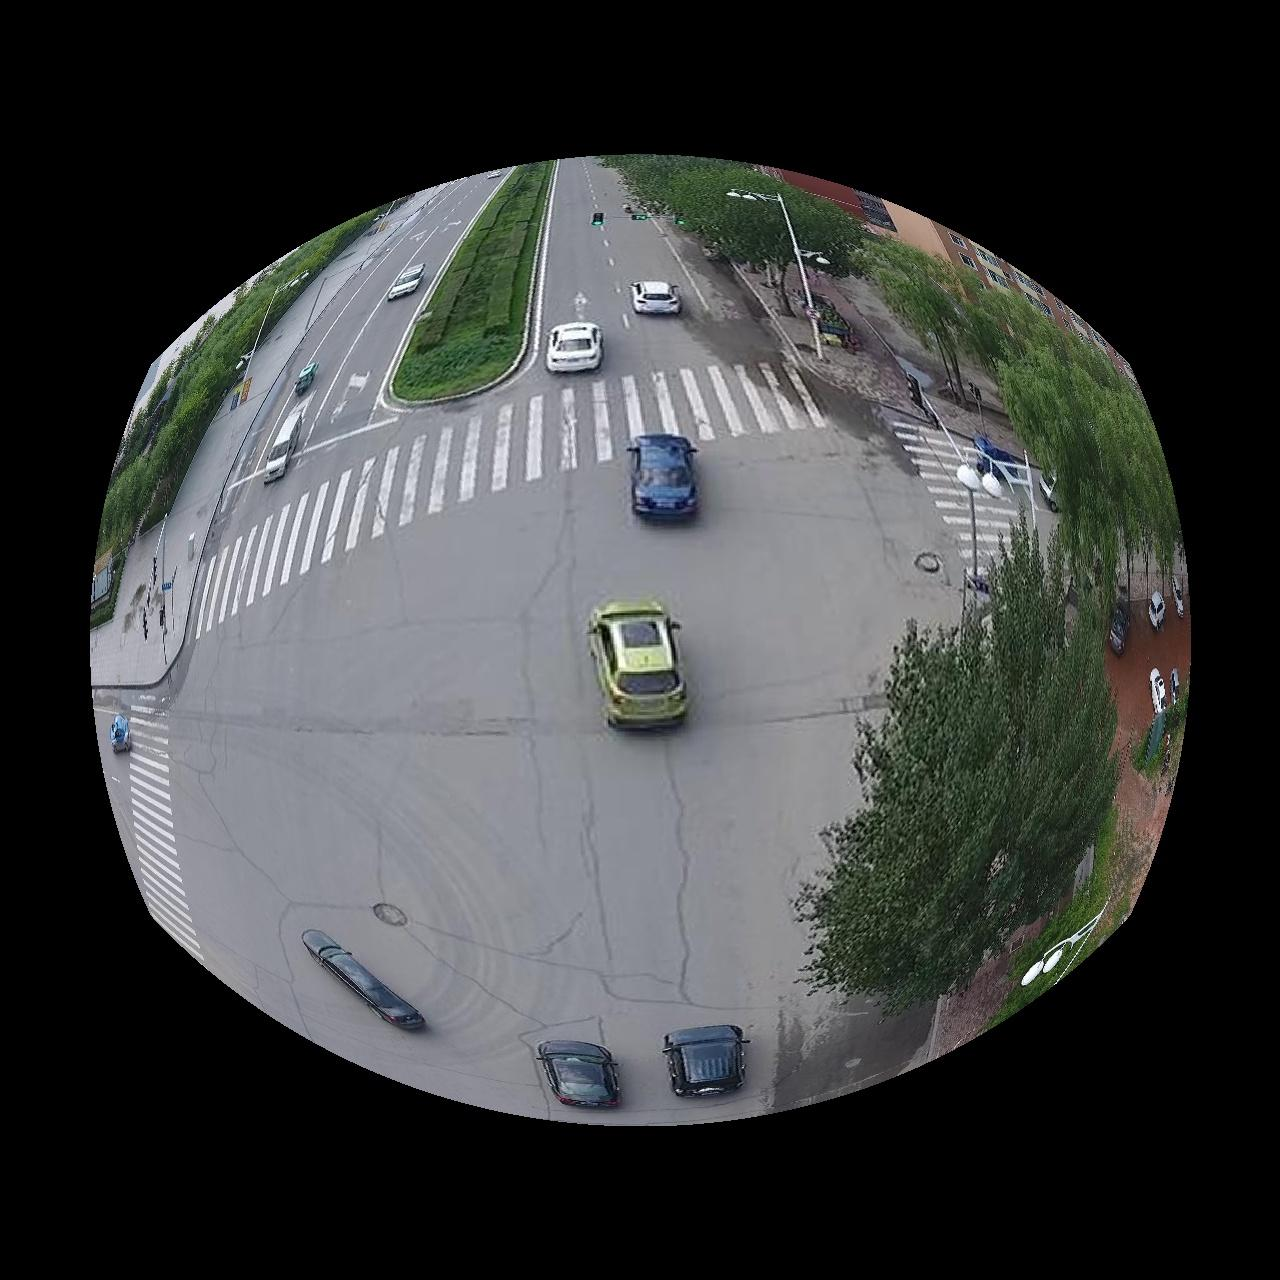cars: (588, 601, 687, 729), (301, 931, 425, 1030), (663, 1029, 750, 1098), (538, 1042, 621, 1110), (629, 435, 699, 516), (263, 406, 301, 483), (547, 322, 602, 370), (632, 279, 682, 313), (387, 263, 424, 300)
trees: (798, 523, 1121, 1012), (855, 234, 1183, 621)
